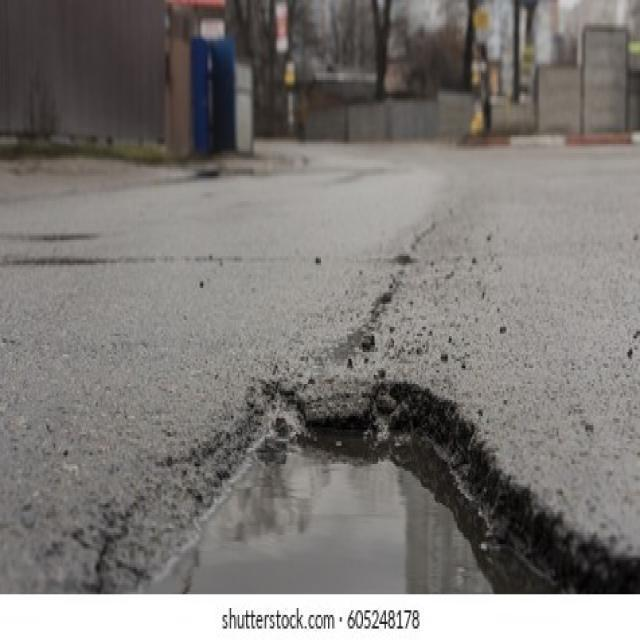pothole: (107, 374, 640, 594)
